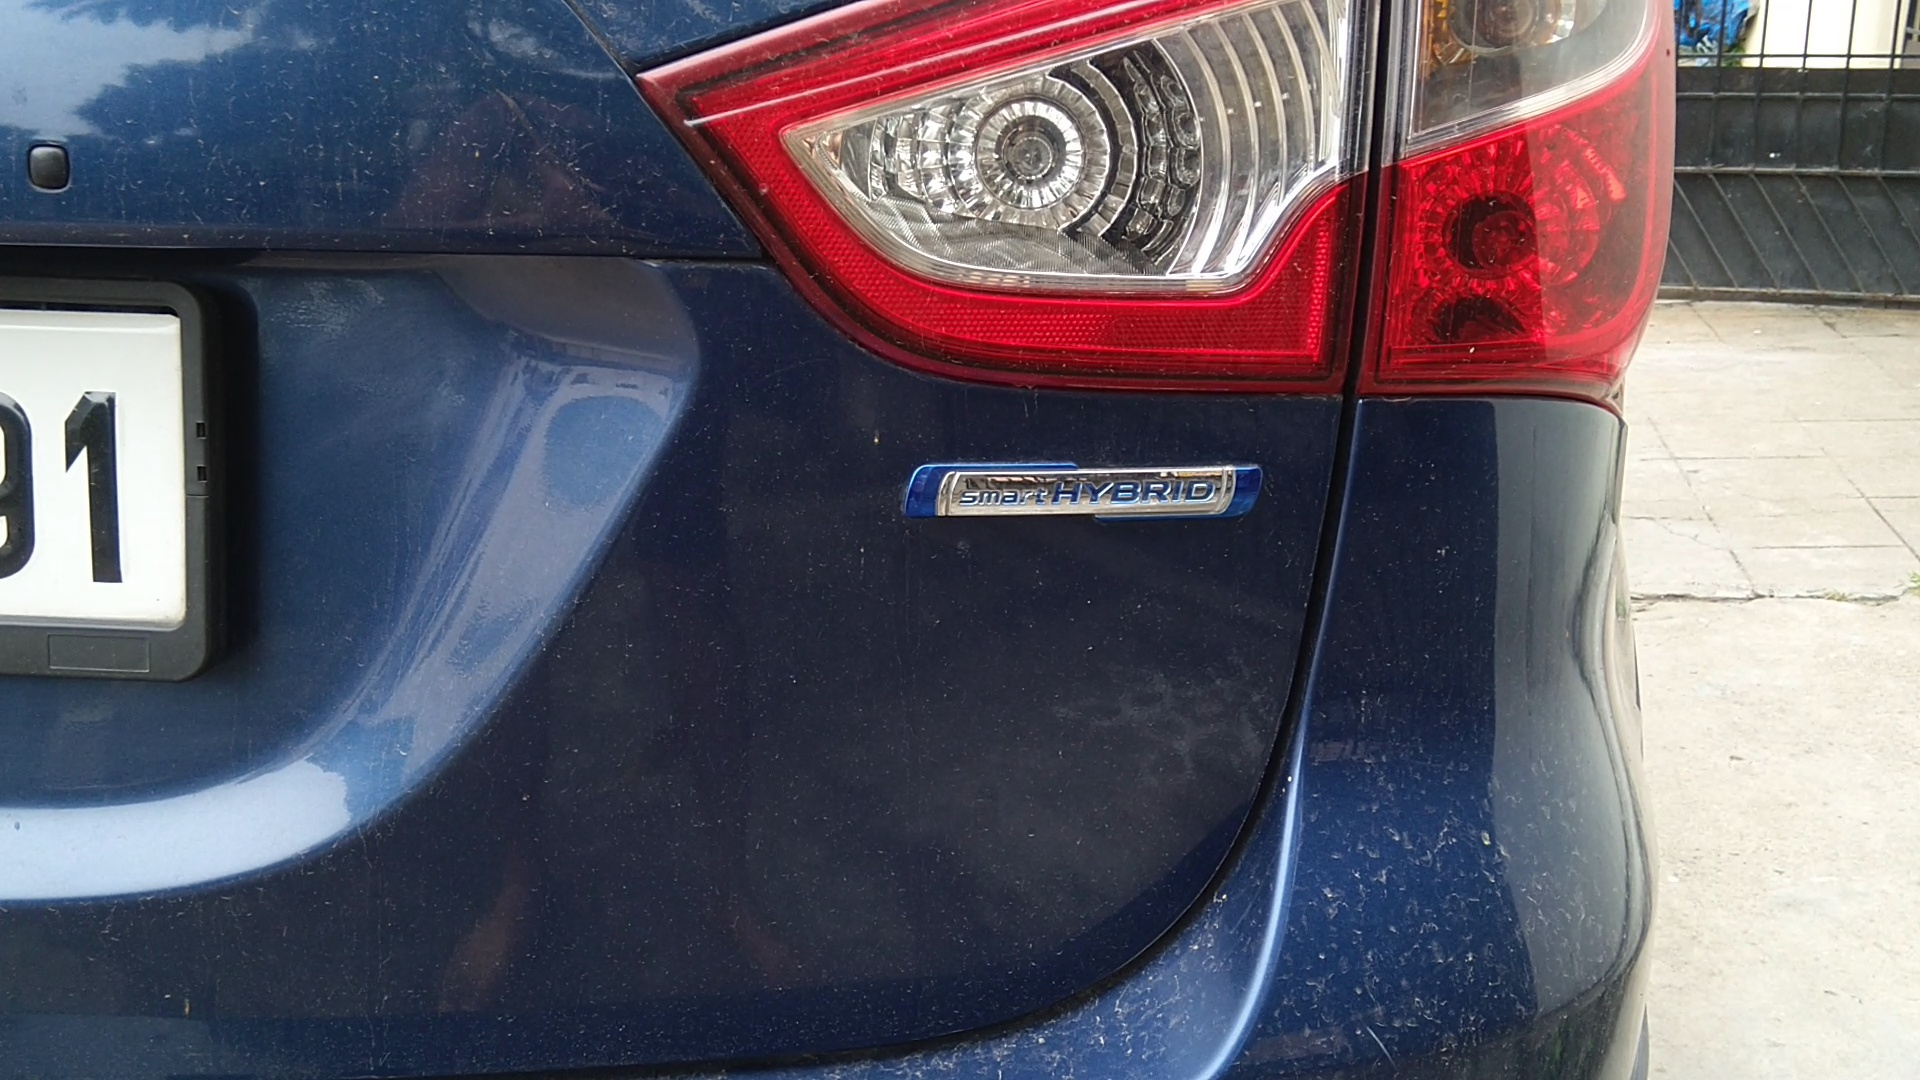shvs: (881, 435, 1291, 570)
